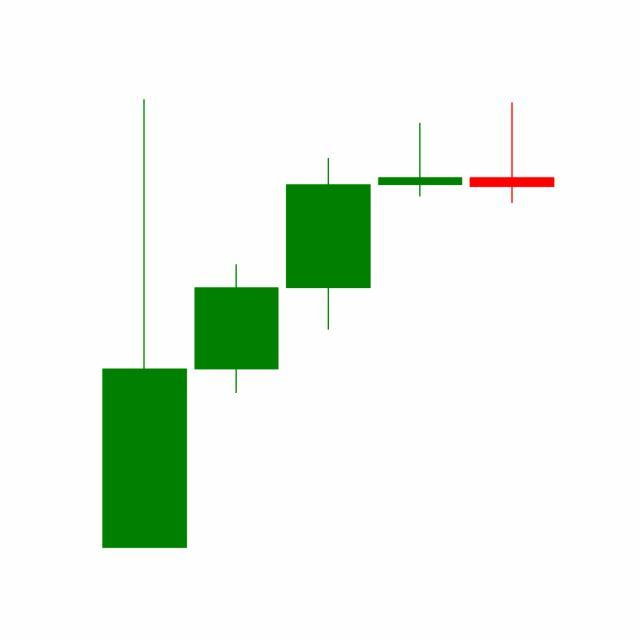Spinning Top: (374, 122, 468, 198)
